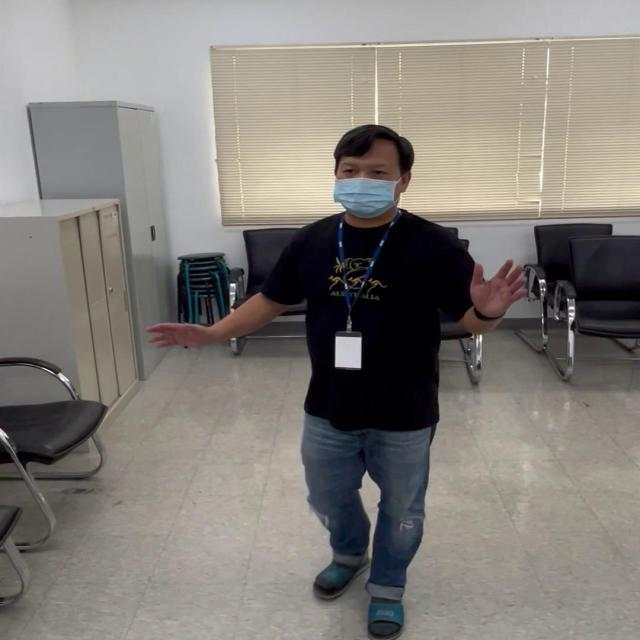bare_hand: (470, 255, 529, 320), (145, 316, 216, 352)
